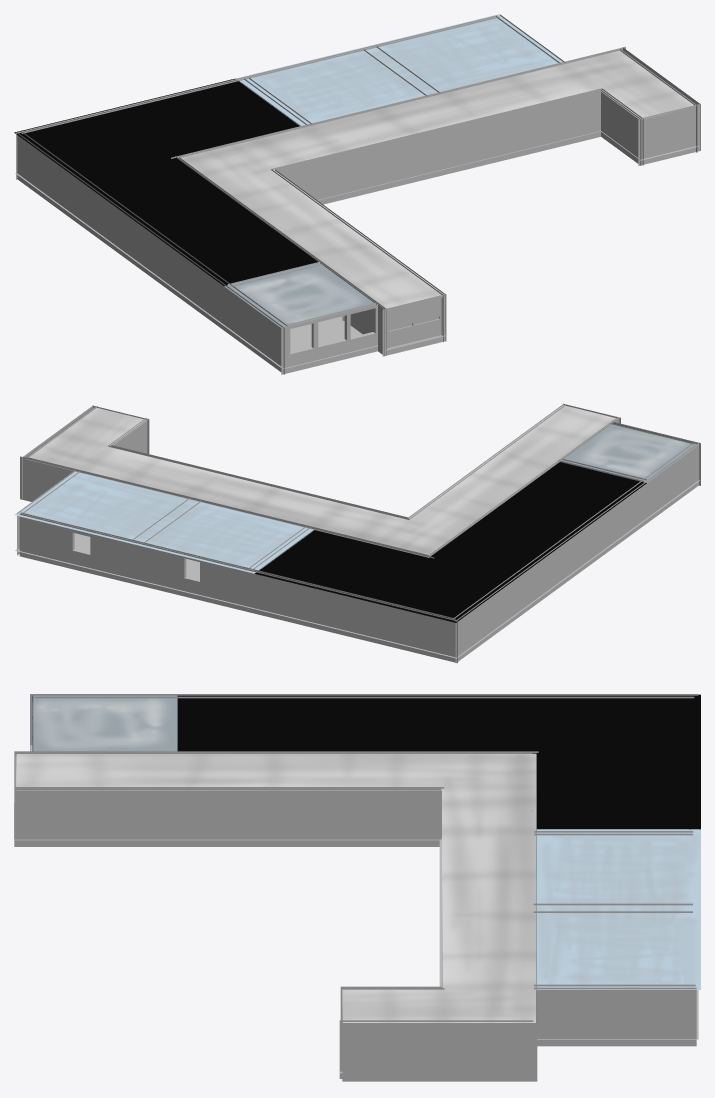
File: Uffico giornalistico_01.FBX
3 renders of one model, top to bottom at view 1: azimuth 30°, elevation 25°; view 2: azimuth 150°, elevation 25°; view 3: azimuth 270°, elevation 25°, orthographic. The views are drawn at different scales.
Visible parts, largest first — view 1: Soffitto, Planimetria, pavimento; view 2: Soffitto, Planimetria, pavimento; view 3: Soffitto, Planimetria, pavimento.
Part boxes in pixels (x1,y1,x2,y2): Soffitto: [14, 14, 698, 327]; Planimetria: [16, 14, 700, 374]; pavimento: [15, 131, 699, 369]; Soffitto: [14, 405, 699, 622]; Planimetria: [17, 403, 700, 663]; pavimento: [15, 480, 699, 658]; Soffitto: [16, 694, 700, 1022]; Planimetria: [14, 694, 698, 1081]; pavimento: [14, 745, 698, 1073].
Size of the model in its own units: 42.05 by 3.46 by 36.73.
